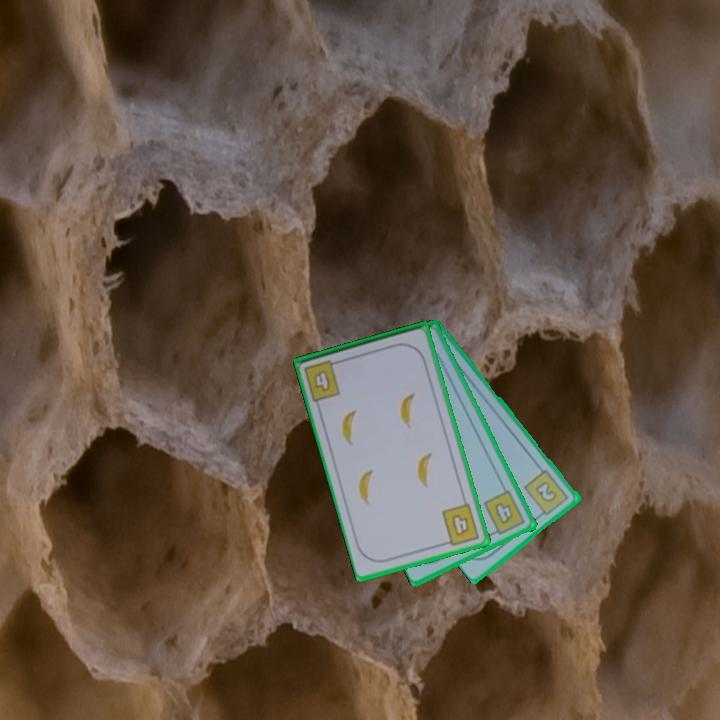2b: (521, 466, 572, 521)
4b: (480, 487, 529, 538), (438, 500, 482, 548), (301, 356, 345, 404)
